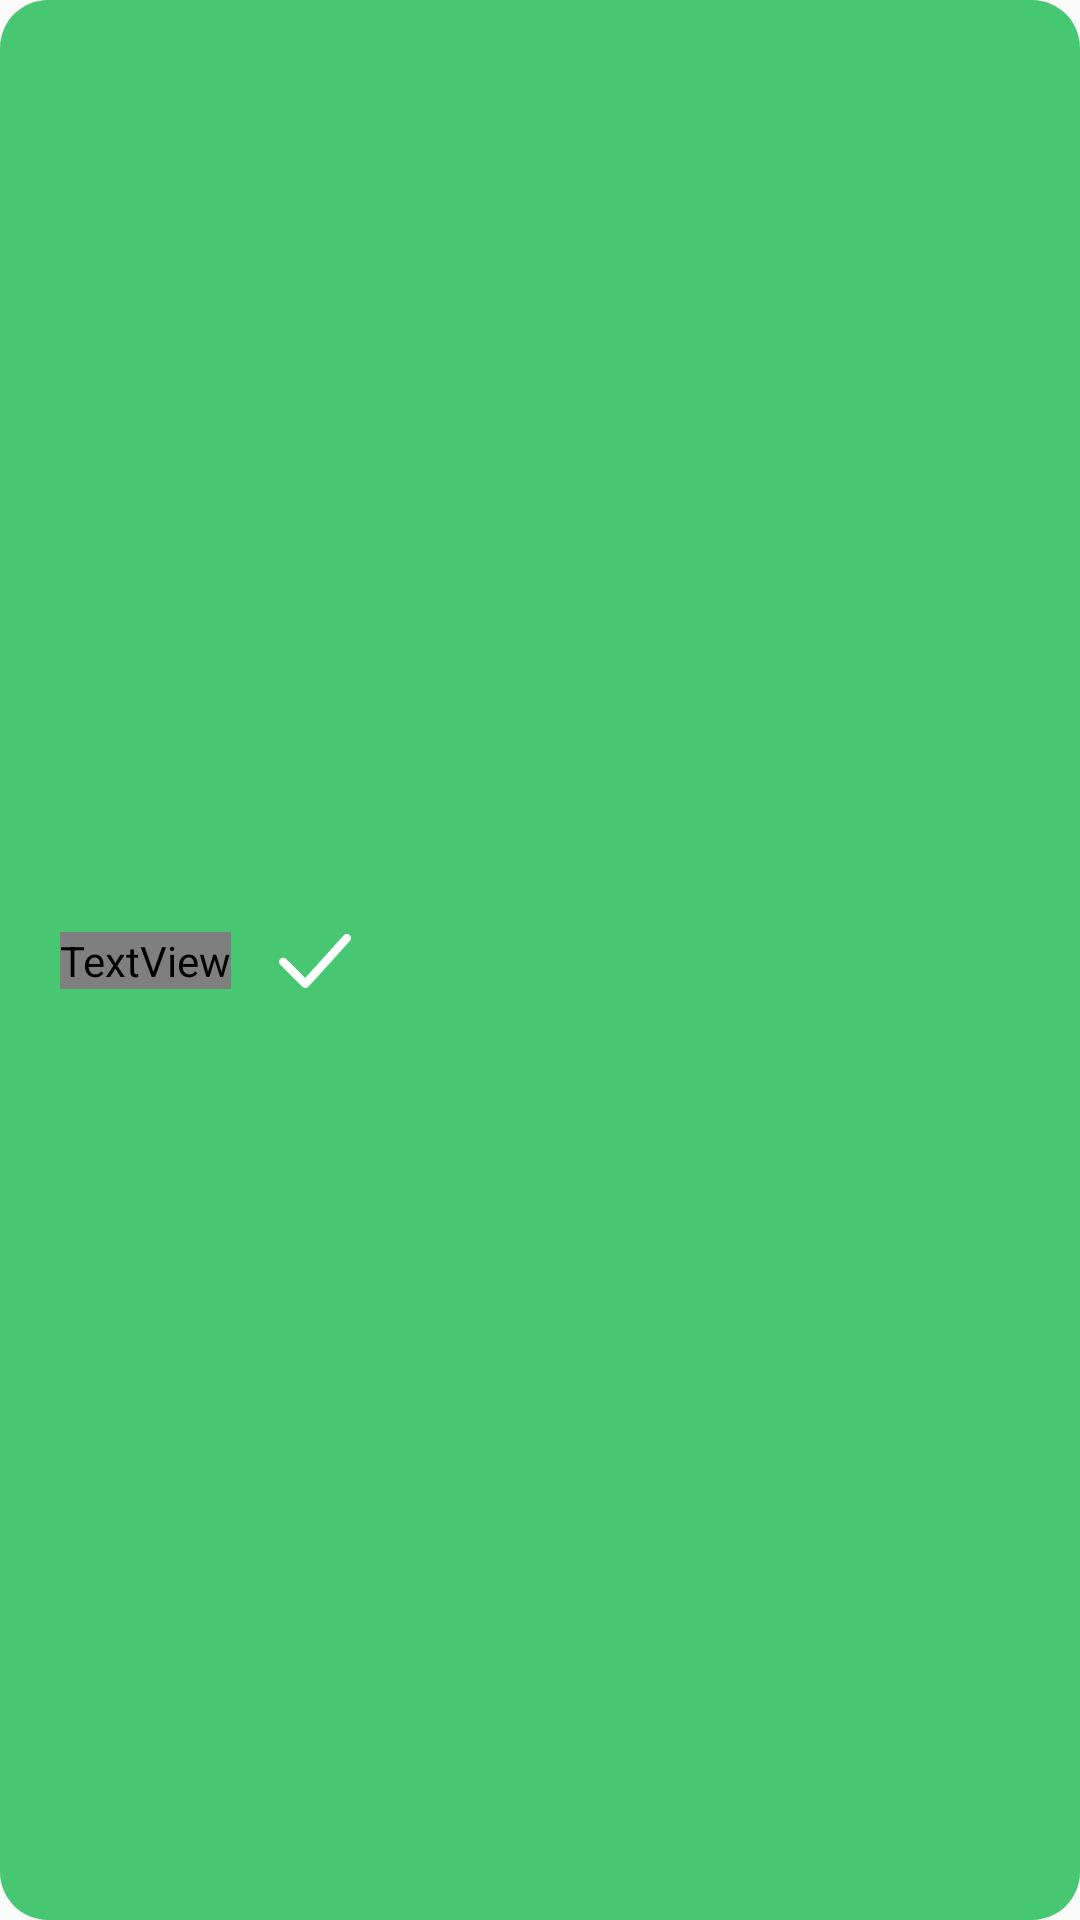

Where icons sit on this 1080 x 1920 app screen, as (x1, y1, x2, y2):
true: (279, 934, 351, 988)
